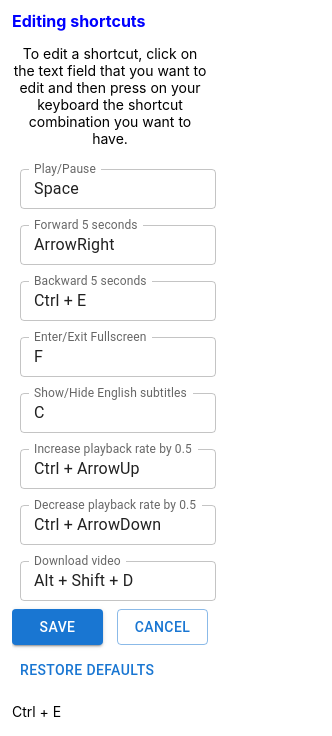
Test: EditShortcuts › restore defaults correctly in the input values but not in the context
Expected: the text with test id "test-context" reads "Ctrl + E", [12, 703, 61, 720]
Press a in the field labelled "Backward 5 seconds", box [20, 281, 216, 321]
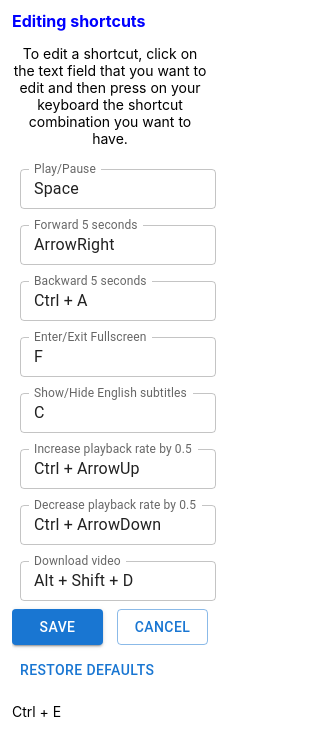
Click the button "Restore defaults": (87, 670) [12, 652, 162, 689]
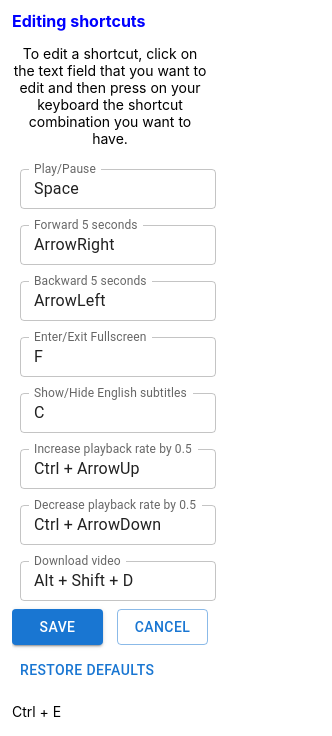
Expected: the text with test id "test-context" reads "Ctrl + E", [12, 703, 61, 720]
Result: the field labelled "Backward 5 seconds" holds "ArrowLeft" at [20, 281, 216, 321]
